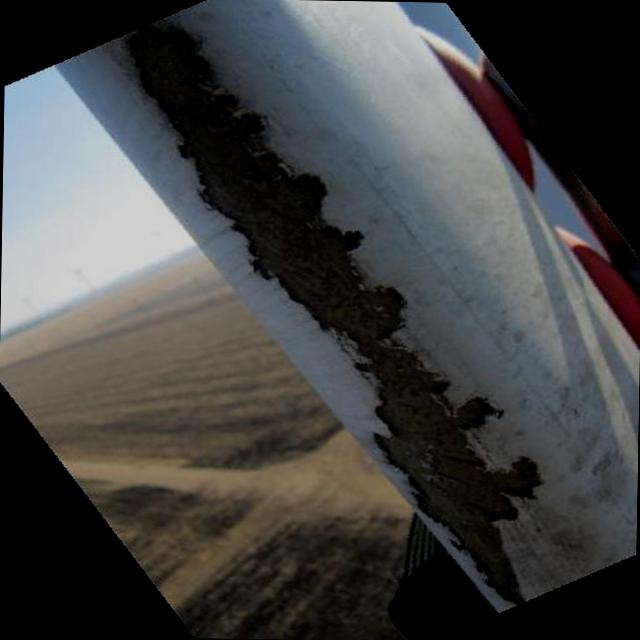corrosion: (324, 270, 534, 600), (125, 27, 328, 320)
